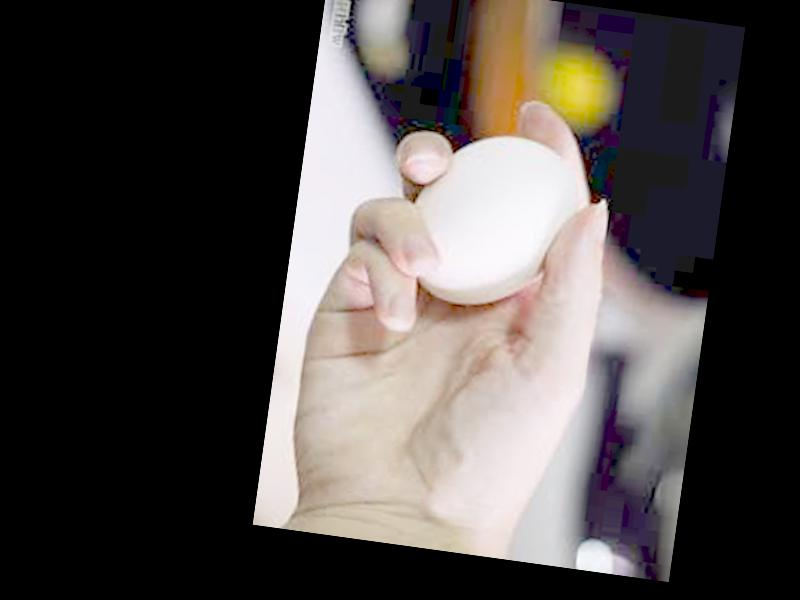Eggs: (404, 123, 585, 316)
